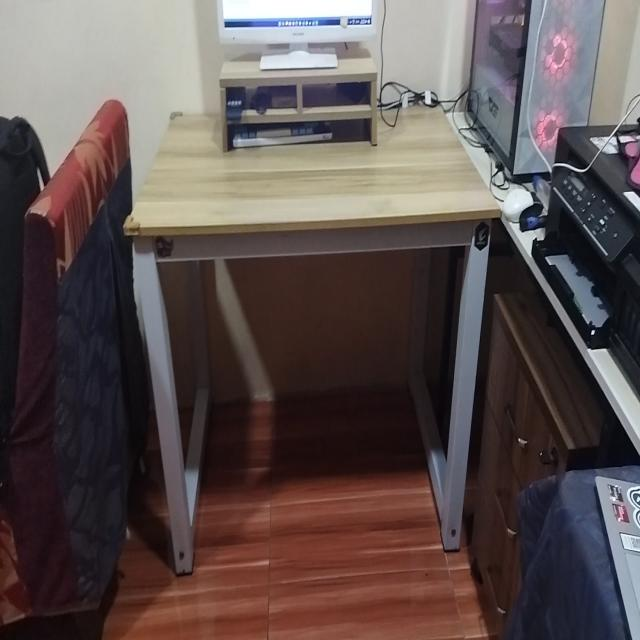table: (127, 98, 502, 574)
